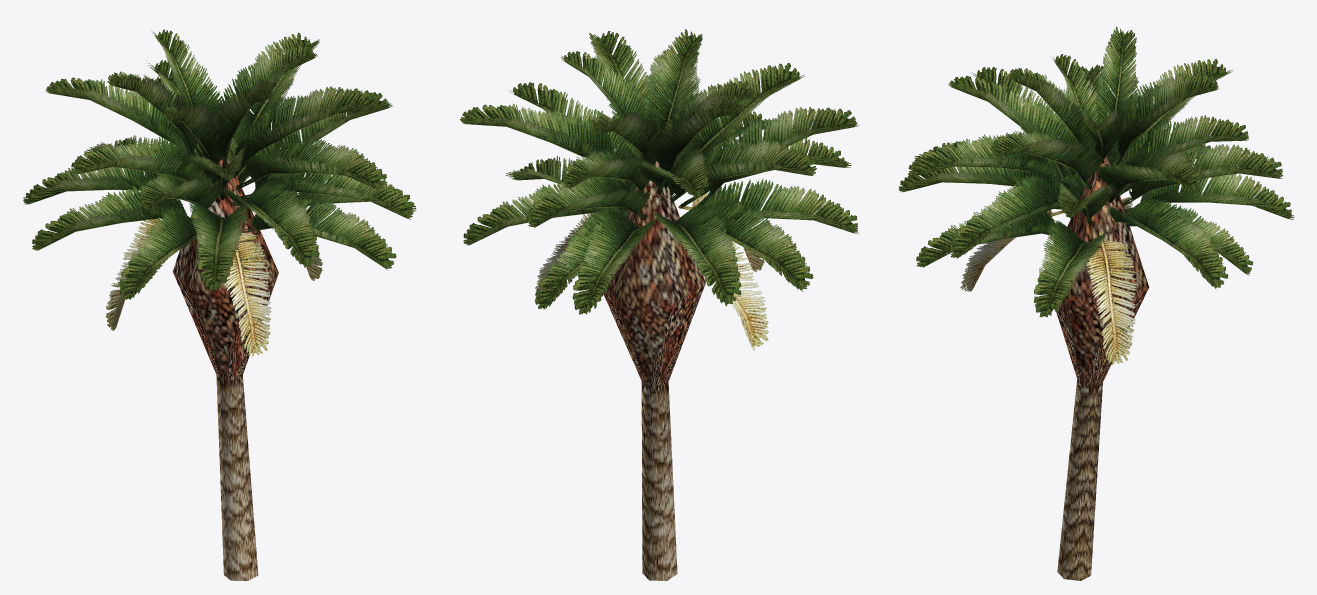
The model's file is tree_cretan_date_palm_04.dae.
The picture shows the model from 3 angles, left to right: view 1: azimuth 30°, elevation 25°; view 2: azimuth 150°, elevation 25°; view 3: azimuth 270°, elevation 25°; orthographic projection. The views are drawn at different scales.
Visible parts, largest first — view 1: tree_cretan_date_palm_04; view 2: tree_cretan_date_palm_04; view 3: tree_cretan_date_palm_04.
Part boxes in pixels (<box>): tree_cretan_date_palm_04: <box>23,29,415,580</box>; tree_cretan_date_palm_04: <box>460,29,859,580</box>; tree_cretan_date_palm_04: <box>898,26,1294,580</box>.
Bounding box in the file's own units: 7.92 × 11.23 × 8.05.
